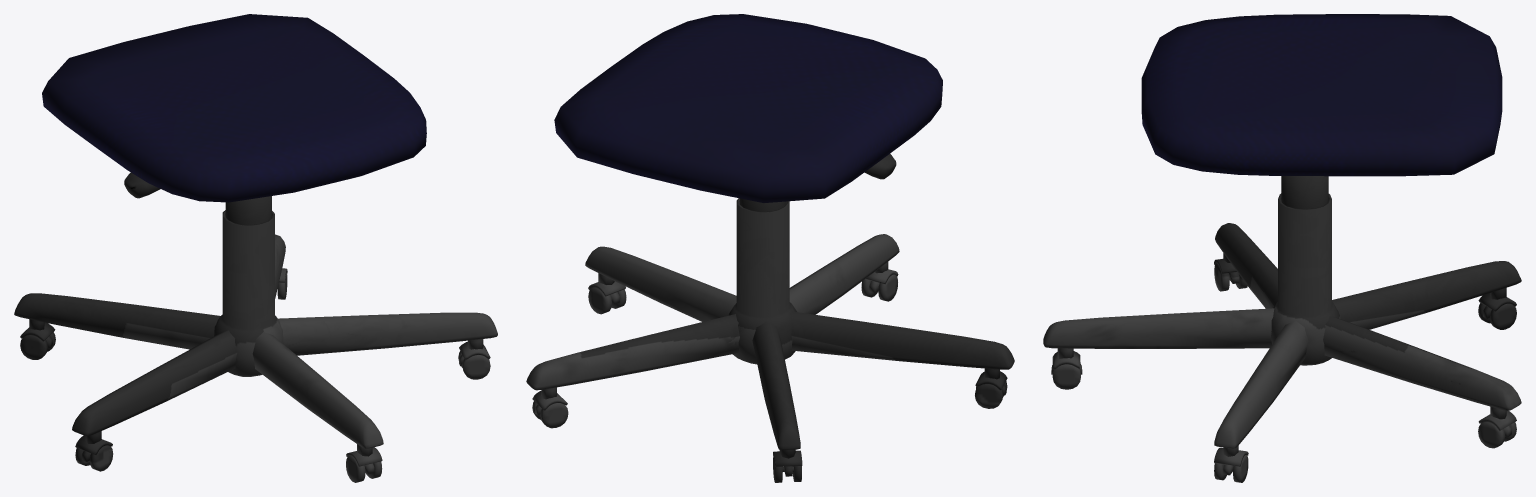
Rendered from Cadeira.fbx.
3 views of the same model, side by side, from view 1: azimuth 30°, elevation 25°; view 2: azimuth 150°, elevation 25°; view 3: azimuth 270°, elevation 25° (orthographic). The views are drawn at different scales.
Parts seen in each view (by area): view 1: Cadeira.Escritorio; view 2: Cadeira.Escritorio; view 3: Cadeira.Escritorio.
Part boxes in pixels (<box>): Cadeira.Escritorio: <box>14,14,497,482</box>; Cadeira.Escritorio: <box>526,14,1014,482</box>; Cadeira.Escritorio: <box>1043,14,1521,482</box>.
Size of the model in its own units: 71.16 by 48.84 by 67.8.
